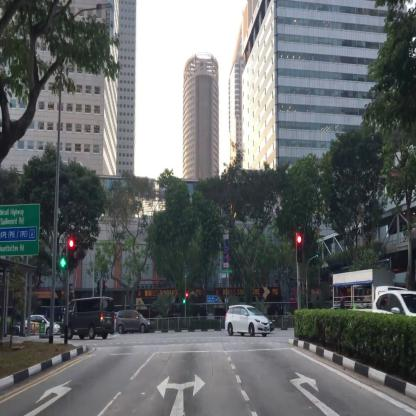red_traffic_light: (68, 238, 74, 270), (296, 235, 302, 263)
